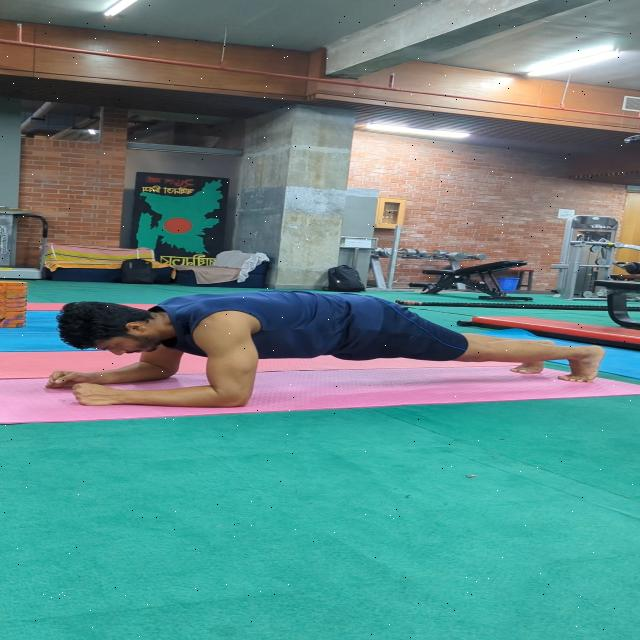Normal_Plunk: (30, 280, 612, 419)
